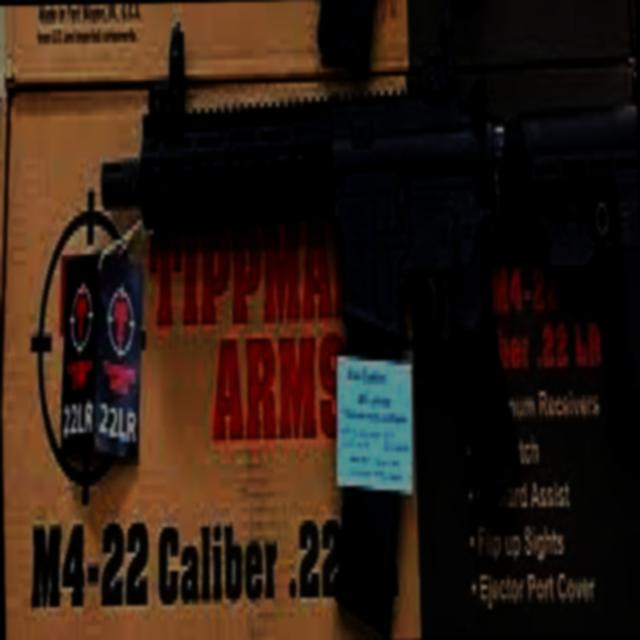m16: (114, 24, 528, 540)
